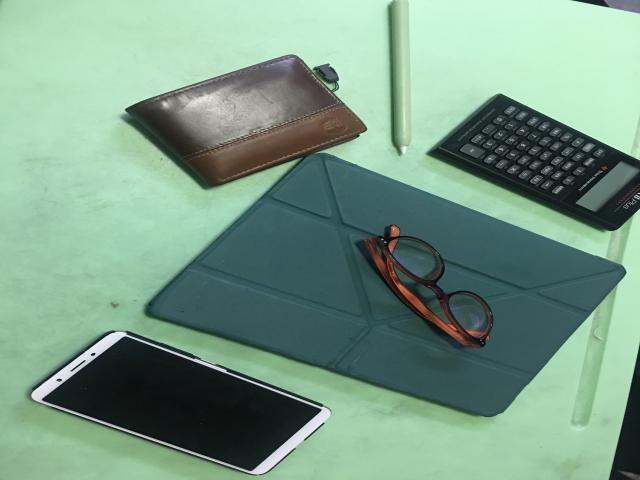Glasses: (365, 225, 493, 348)
Mobile phone: (32, 331, 330, 474)
Wallet: (127, 54, 367, 186)
